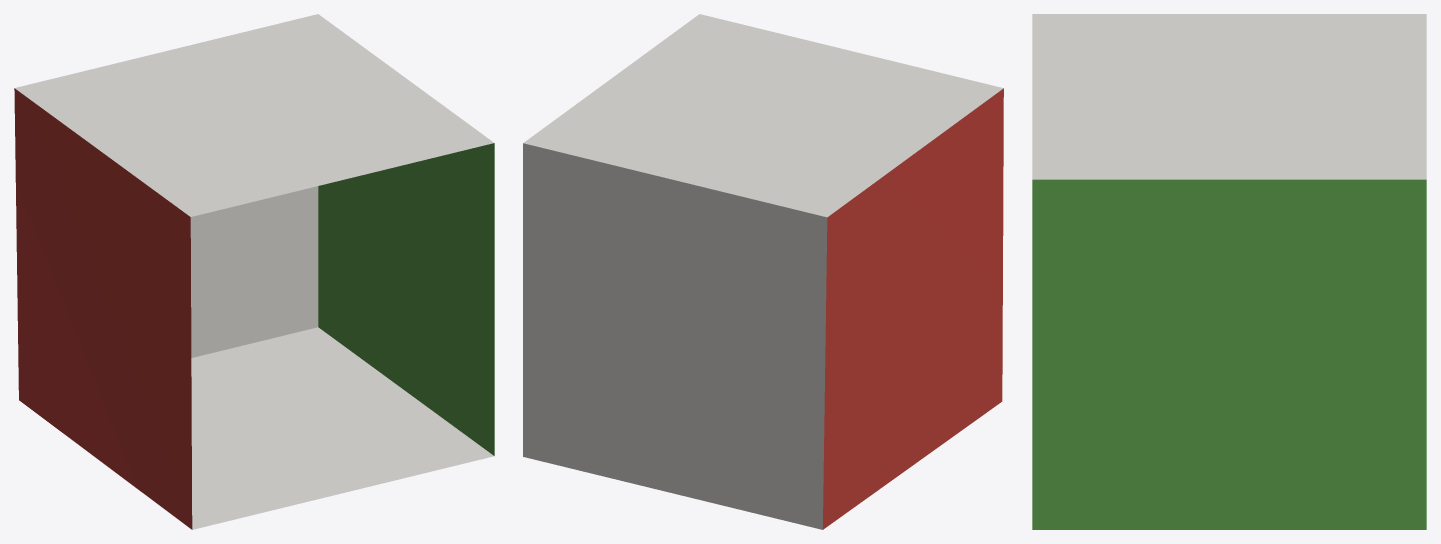
The model's file is CornellEmpty.glb.
3 views of the same model, side by side, from view 1: azimuth 30°, elevation 25°; view 2: azimuth 150°, elevation 25°; view 3: azimuth 270°, elevation 25° (orthographic). The views are drawn at different scales.
Visible parts, largest first — view 1: Object_5, Object_3, Object_7, Object_4, Object_2; view 2: Object_2, Object_5, Object_3; view 3: Object_7, Object_3.
Boxes of the visible parts, x1=… form: Object_5: x1=14, y1=88, x2=192, y2=529; Object_3: x1=15, y1=14, x2=493, y2=216; Object_7: x1=318, y1=143, x2=494, y2=455; Object_4: x1=191, y1=327, x2=493, y2=529; Object_2: x1=190, y1=186, x2=318, y2=357; Object_2: x1=523, y1=143, x2=827, y2=529; Object_5: x1=823, y1=88, x2=1003, y2=529; Object_3: x1=523, y1=14, x2=1003, y2=217; Object_7: x1=1032, y1=179, x2=1426, y2=529; Object_3: x1=1032, y1=14, x2=1426, y2=179.
Bounding box in the file's own units: 2.02 × 1.99 × 2.03.
